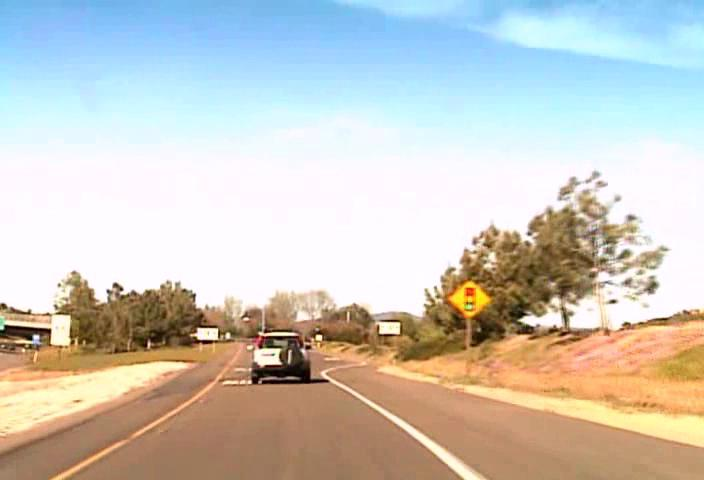signalAhead: (447, 278, 490, 317)
